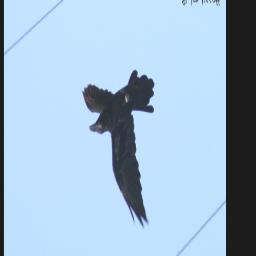Crow: (81, 70, 155, 229)
